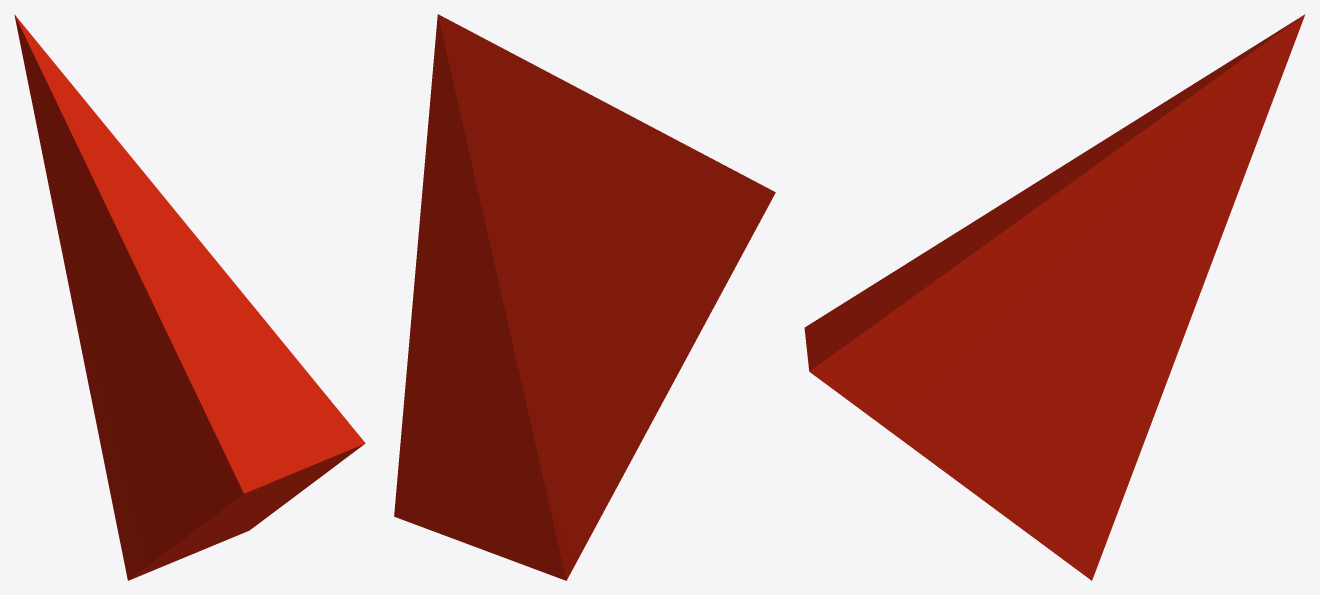
The model's file is player_leftArm_next.obj.
The picture shows the model from 3 angles, left to right: view 1: azimuth 30°, elevation 25°; view 2: azimuth 150°, elevation 25°; view 3: azimuth 270°, elevation 25°; orthographic projection. The views are drawn at different scales.
Visible parts, largest first — view 1: leftArm_next; view 2: leftArm_next; view 3: leftArm_next.
Part boxes in pixels (bbox=[...]): leftArm_next: bbox=[14, 14, 365, 580]; leftArm_next: bbox=[394, 14, 775, 580]; leftArm_next: bbox=[804, 14, 1305, 580].
Bounding box in the file's own units: 0.099 × 0.3278 × 0.2874.
